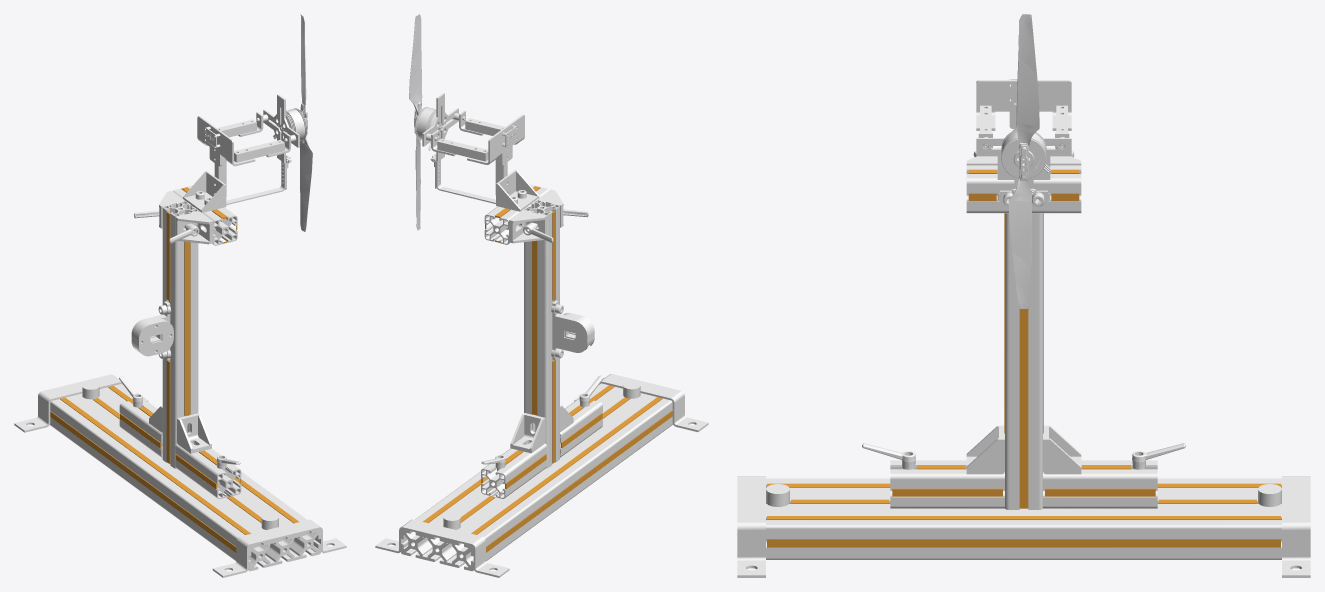
Rendered from rts-compact-5.glb.
3 views of the same model, side by side, from view 1: azimuth 30°, elevation 25°; view 2: azimuth 150°, elevation 25°; view 3: azimuth 270°, elevation 25° (orthographic). The views are drawn at different scales.
Parts seen in each view (by area): view 1: p110, p0, p118, p121, p105, p111, p106, p109, p36, p107, p8, p98 (+9 smaller); view 2: p110, p0, p118, p106, p121, p109, p105, p35, p111, p108, p8, p97 (+8 smaller); view 3: p110, p118, p0, p109, p111, p1, p105, p106, p8, p97, p121, p98 (+7 smaller).
Part boxes in pixels (x1,y1,x2,y2): p110: (50, 384, 320, 571); p0: (162, 201, 198, 468); p118: (50, 386, 298, 552); p121: (166, 211, 190, 463); p105: (212, 519, 346, 577); p111: (175, 443, 241, 499); p106: (14, 374, 148, 432); p109: (119, 398, 162, 457); p36: (135, 319, 173, 356); p107: (177, 413, 211, 453); p8: (197, 116, 255, 166); p98: (300, 137, 312, 231); p110: (401, 383, 672, 571); p0: (524, 200, 559, 468); p118: (422, 385, 672, 552); p106: (375, 519, 509, 577); p121: (532, 210, 555, 463); p109: (481, 443, 546, 498); p105: (574, 374, 708, 431); p35: (551, 300, 590, 360); p111: (560, 398, 602, 457); p108: (510, 413, 545, 453); p8: (467, 114, 524, 164); p97: (409, 14, 422, 115); p110: (766, 478, 1281, 559); p118: (767, 483, 1280, 547); p0: (1005, 213, 1042, 509); p109: (1043, 460, 1157, 508); p111: (890, 460, 1004, 508); p1: (966, 165, 1081, 213); p105: (737, 476, 765, 577); p106: (1282, 476, 1310, 577); p8: (976, 80, 1071, 130); p97: (1016, 14, 1039, 147); p121: (1004, 213, 1043, 508); p98: (1008, 176, 1031, 309).
Bounding box in the file's own units: 313 × 698 × 600.
